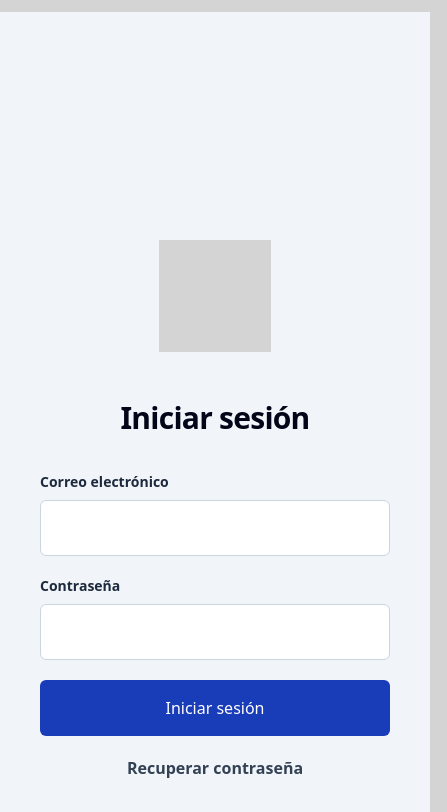
Aceptacion del modulo de autenticacion › muestra un mensaje claro cuando las credenciales son invalidas
Type "error@demo.com" into the field named "correo". click: [215, 528]
box: [40,500,390,556]
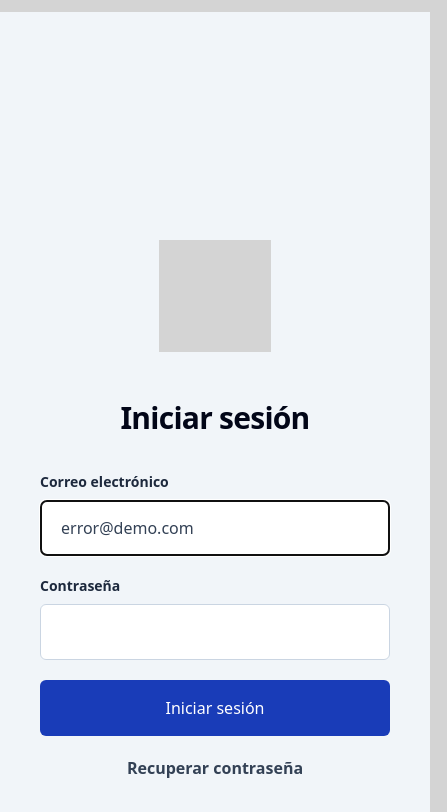
Type "incorrecta" into the password field named "contrasena". click: [215, 632]
box: [40,604,390,660]
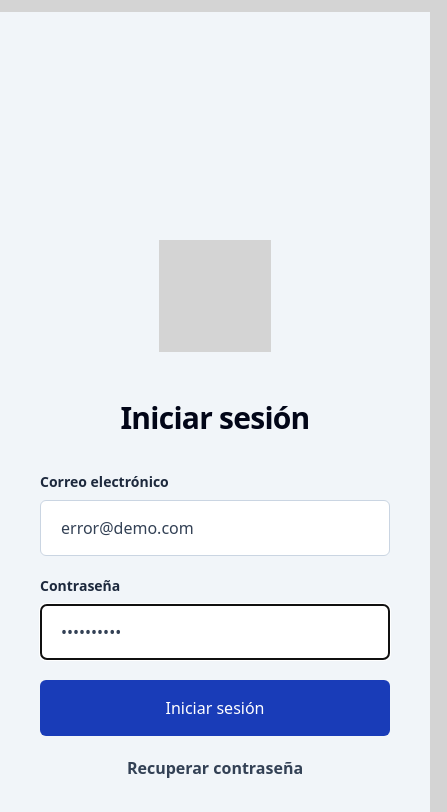
Click the button "Iniciar sesión". click: [215, 708]
box: [40,680,390,736]
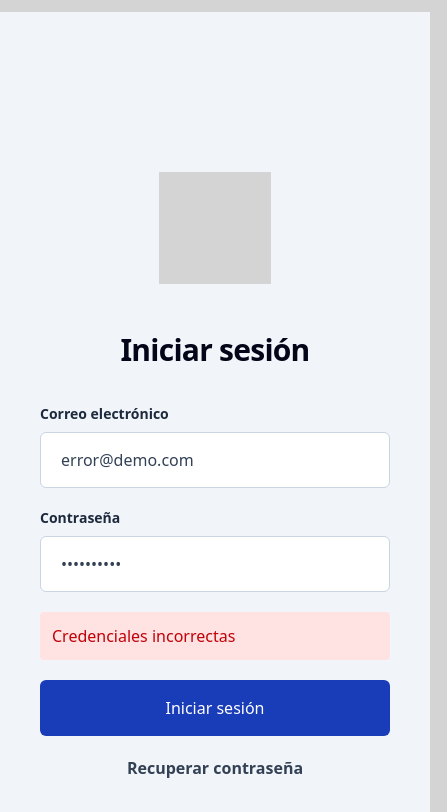
Check: the text "Credenciales incorrectas" is shown, box [40,612,390,660]
